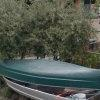Boat: (4, 63, 99, 100)
